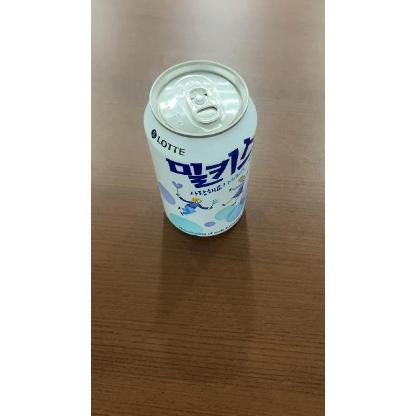Can: (142, 59, 258, 237)
